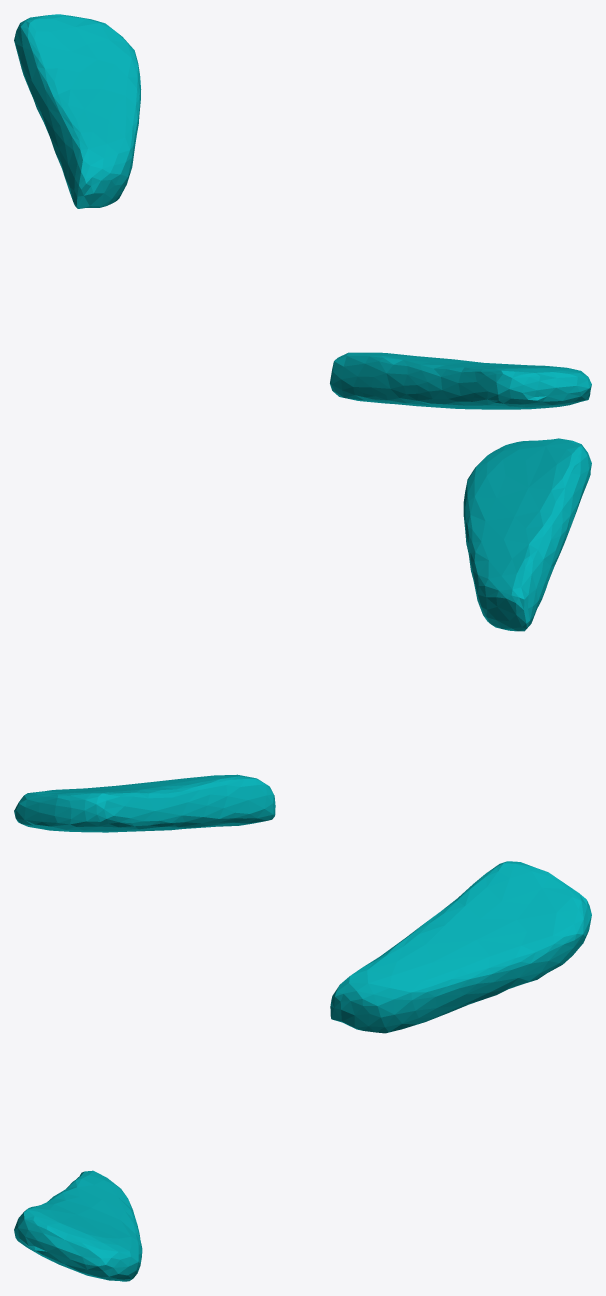
3 renders of one model, top to bottom at view 1: azimuth 30°, elevation 25°; view 2: azimuth 150°, elevation 25°; view 3: azimuth 330°, elevation 25°, orthographic.
Visible parts, largest first — view 1: 312782562.obj; view 2: 312782562.obj; view 3: 312782562.obj.
Part boxes in pixels (box(x1,y1,x2,y2)): 312782562.obj: box(14, 14, 591, 409); 312782562.obj: box(14, 438, 591, 832); 312782562.obj: box(14, 861, 591, 1281).
Bounding box in the file's own units: 909 × 553 × 5107.
